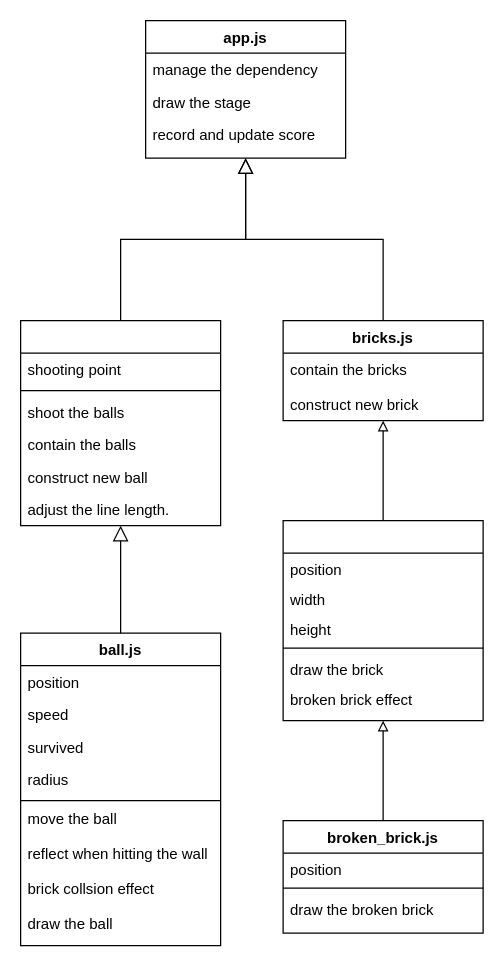
The diagram is 504 pixels wide and 966 high, and some of its shapes have lost their labels. Each missing label, with the box of its shape:
balls.js: (19, 319, 221, 526)
brick.js: (282, 519, 483, 721)
